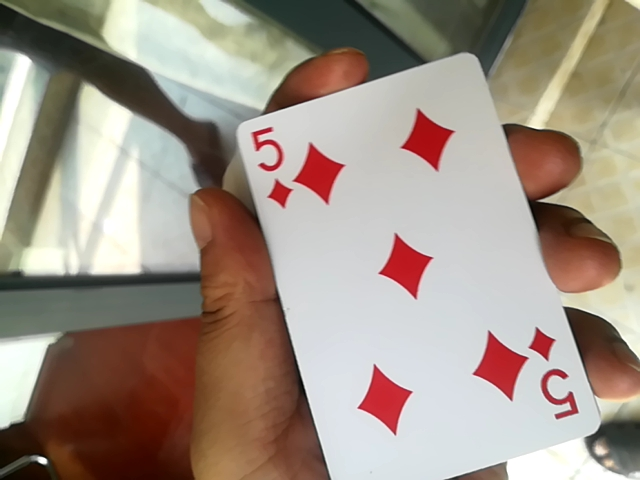fk 5: (232, 50, 619, 478)
